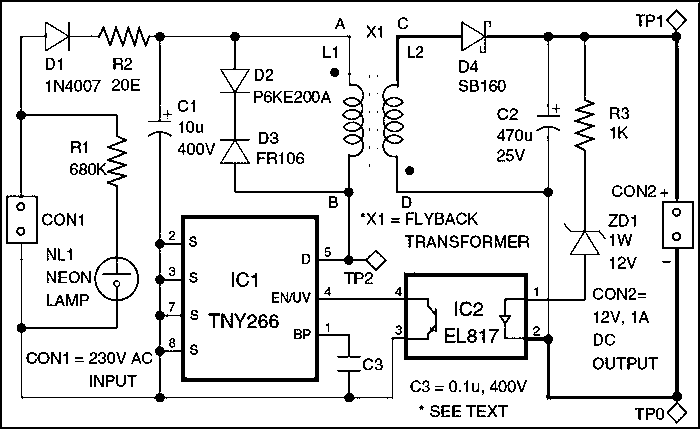C: (331, 347, 370, 381), (144, 106, 178, 145)
D: (558, 217, 612, 269), (452, 11, 498, 61), (36, 12, 78, 57), (215, 128, 257, 170), (211, 63, 253, 99)
L: (338, 80, 371, 161), (380, 77, 410, 161)
OTHER: (653, 184, 698, 257), (7, 185, 49, 253)
R: (567, 89, 602, 162), (101, 128, 134, 196), (86, 20, 156, 52)
U: (169, 207, 333, 388), (394, 264, 537, 370)
